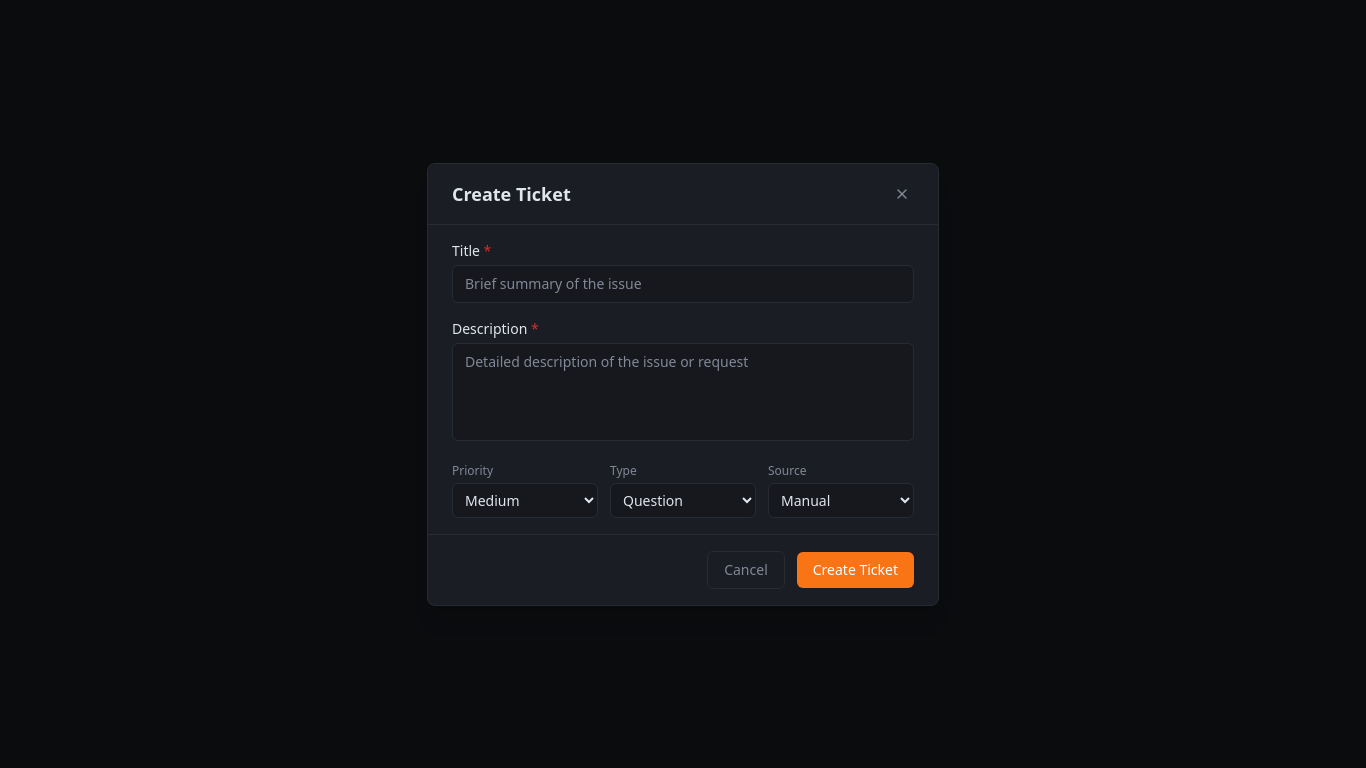
Scenario: CreateTicketModal › shows validation error when description is empty but title is filled
This screenshot has width=1366, height=768.
Step 1. Type "Test ticket" into the field with test id "create-ticket-title" → (683, 284), box x1=452 y1=264 x2=914 y2=302
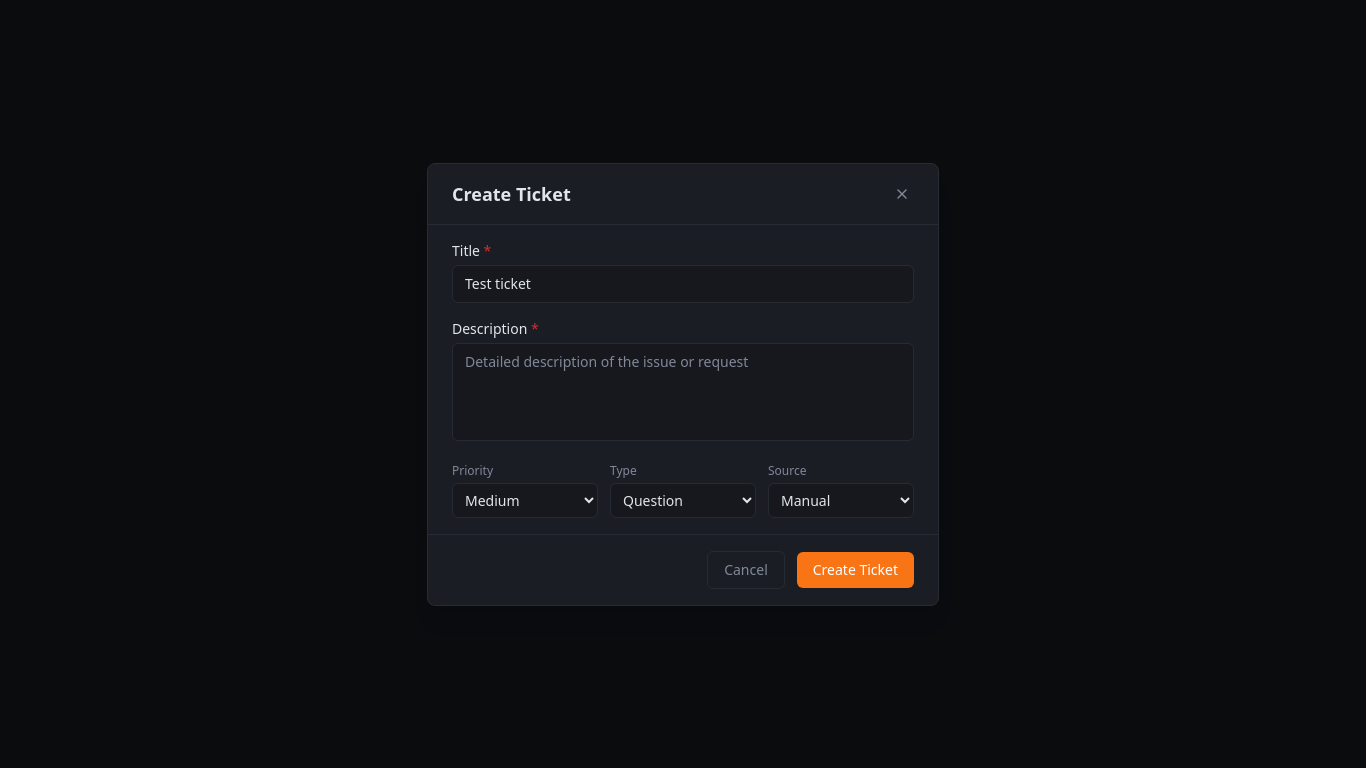
Step 2. Click the button with test id "create-ticket-submit" → click(855, 570), box x1=797 y1=552 x2=914 y2=588
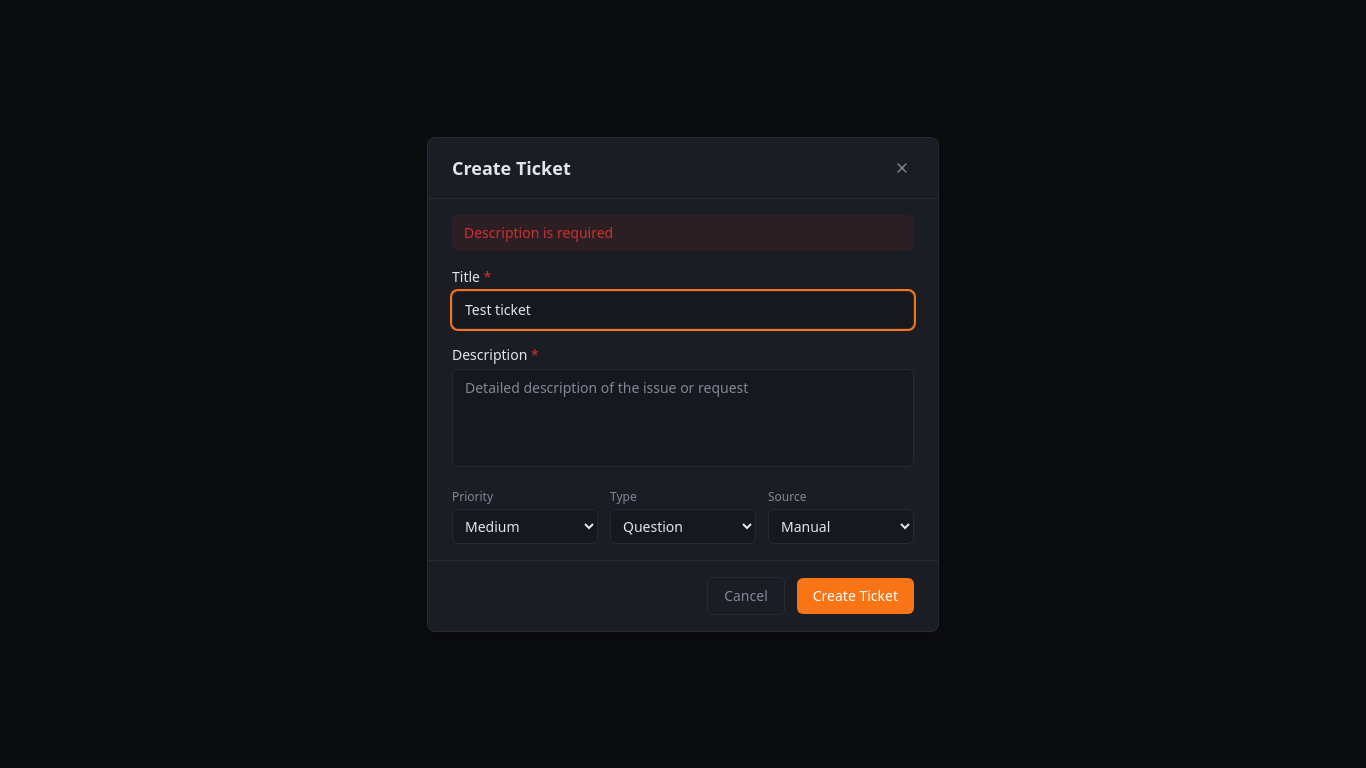
Now the text with test id "create-ticket-error" reads "Description is required", box x1=464 y1=222 x2=613 y2=242
